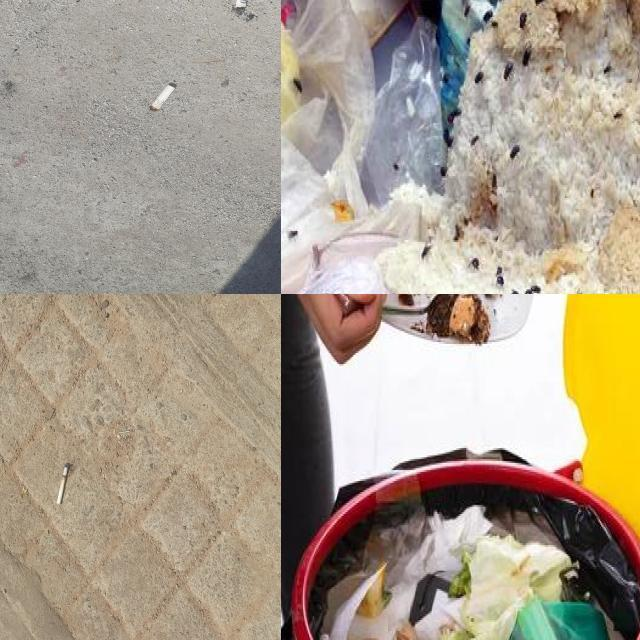Background: (0, 294, 281, 640)
Cig_bud: (150, 82, 177, 111), (56, 463, 70, 505), (235, 0, 247, 10)
Garbage: (281, 0, 640, 294), (318, 478, 640, 640)
contaminated_waste: (281, 0, 374, 294), (439, 0, 506, 124), (495, 589, 619, 640)
